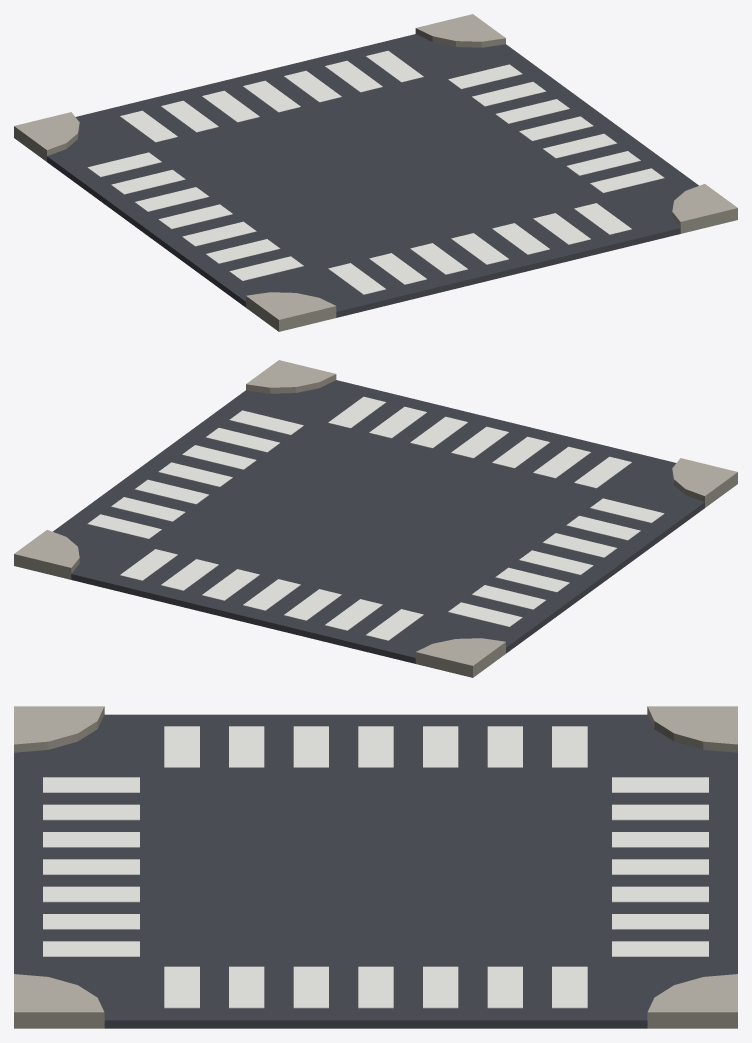
The model's file is Road_Intersection.glb.
The picture shows the model from 3 angles, top to bottom: view 1: azimuth 30°, elevation 25°; view 2: azimuth 150°, elevation 25°; view 3: azimuth 270°, elevation 25°; orthographic projection. The views are drawn at different scales.
Parts seen in each view (by area): view 1: Road_Intersection_Asphalt, Road_Intersection_Sidewalk; view 2: Road_Intersection_Asphalt, Road_Intersection_Sidewalk; view 3: Road_Intersection_Asphalt, Road_Intersection_Sidewalk.
Boxes of the visible parts, x1,y1,x2,y2 form: Road_Intersection_Asphalt: (47, 34, 698, 317); Road_Intersection_Sidewalk: (14, 14, 737, 331); Road_Intersection_Asphalt: (53, 380, 704, 663); Road_Intersection_Sidewalk: (14, 360, 737, 677); Road_Intersection_Asphalt: (14, 714, 737, 1028); Road_Intersection_Sidewalk: (14, 706, 737, 1028).
Bounding box in the file's own units: 11.2 × 0.28 × 11.2.
1 material, 1 textured.
